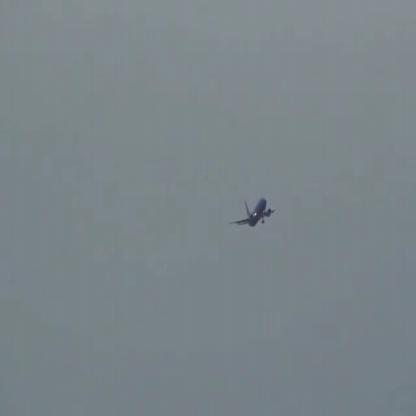CIV_Plane: (228, 192, 277, 228)
